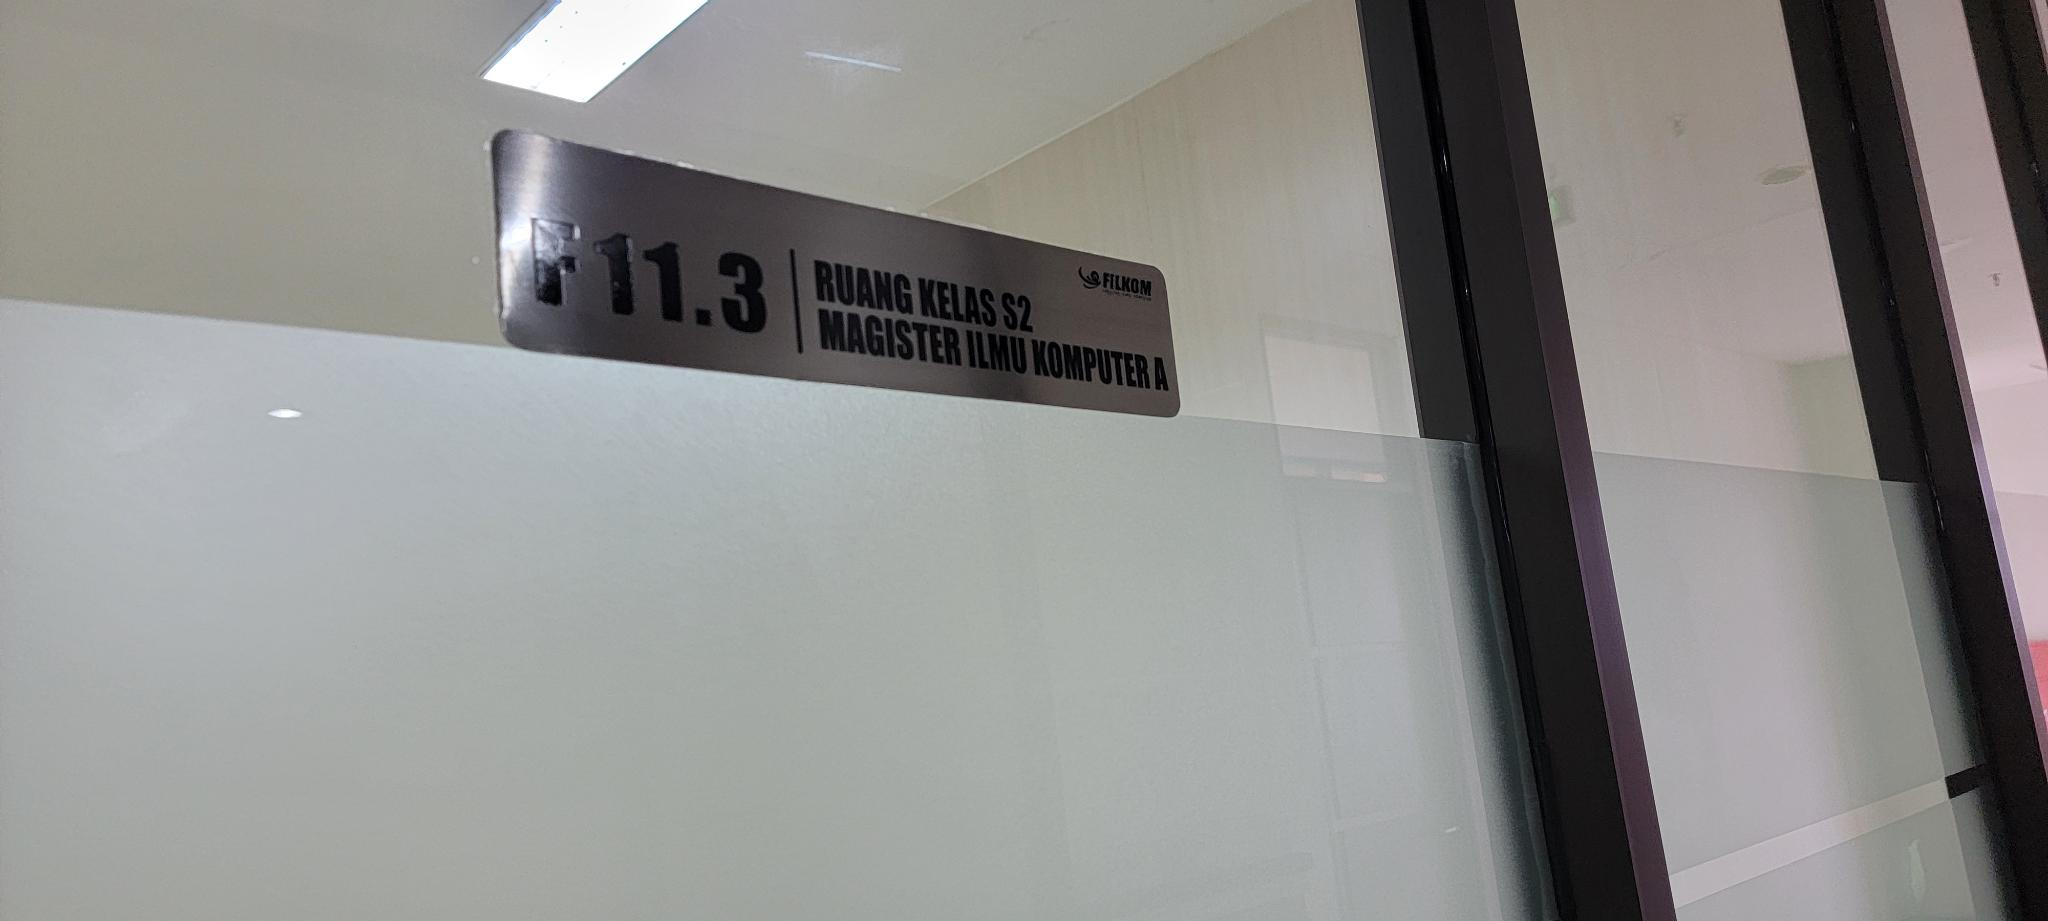plate: (494, 120, 1183, 419)
